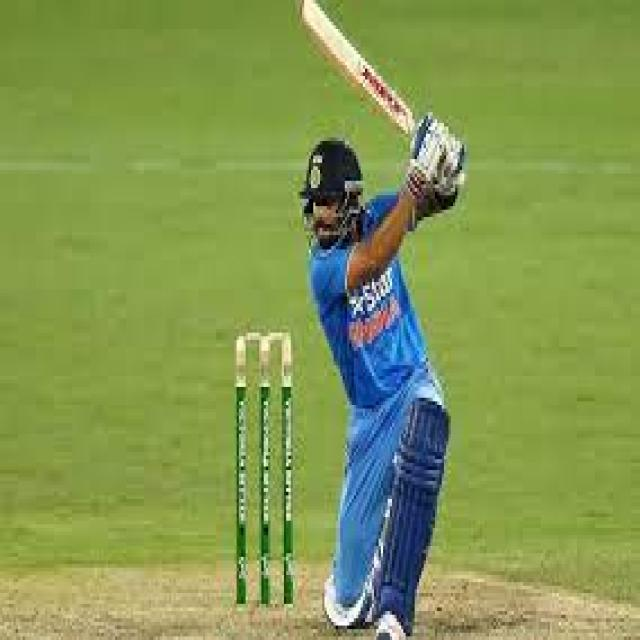toe: (298, 0, 330, 49)
